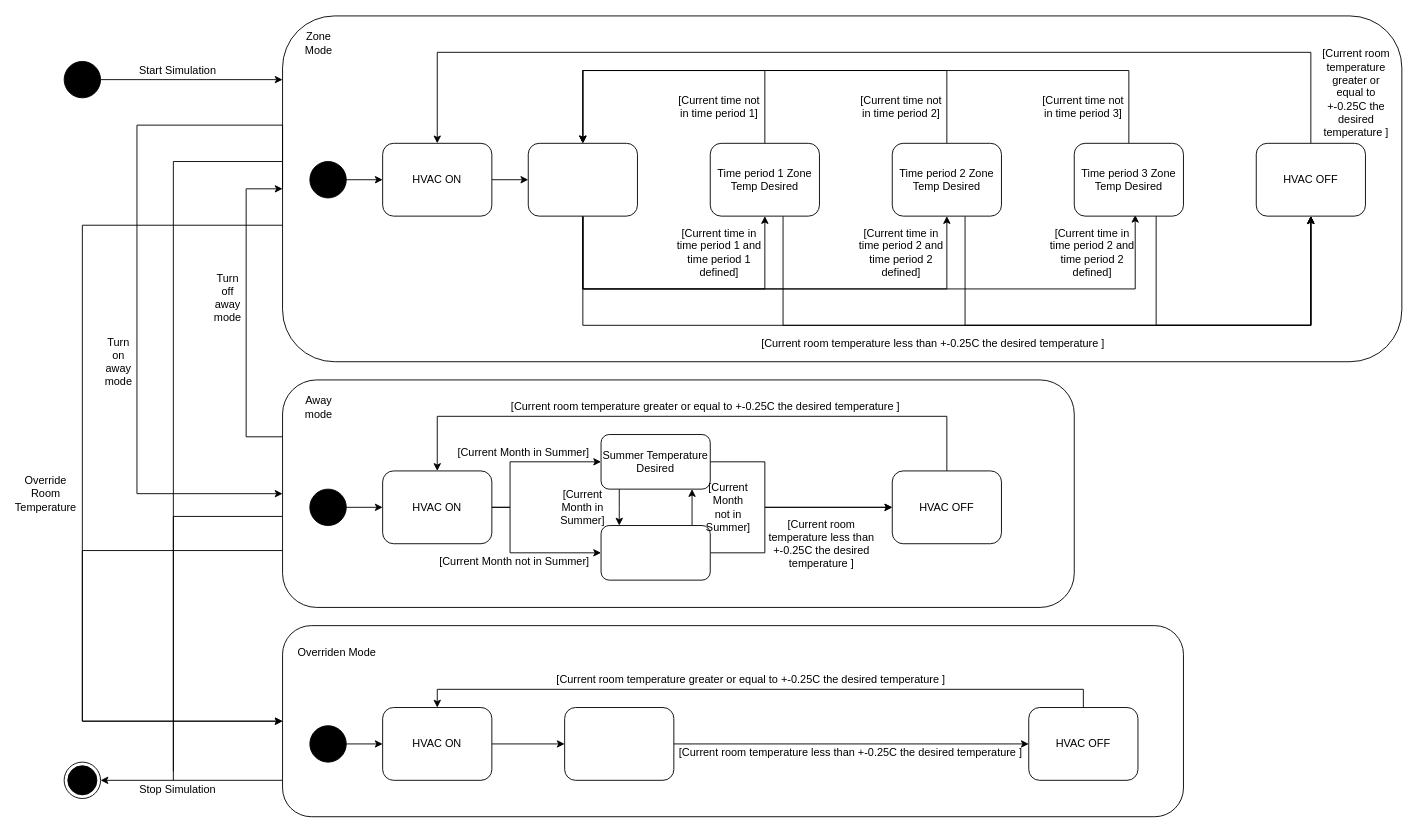
The diagram is 1418 pixels wide and 833 high, and some of its shapes have lost their labels. The shapes that lost their labels are listed below. From the top down, each one's centre as x and y in pixels, then its label:
point (582, 179): Default Zone Temp Desired
point (655, 552): Winter Temperature Desired
point (619, 743): Overwritten Temperature Desired
